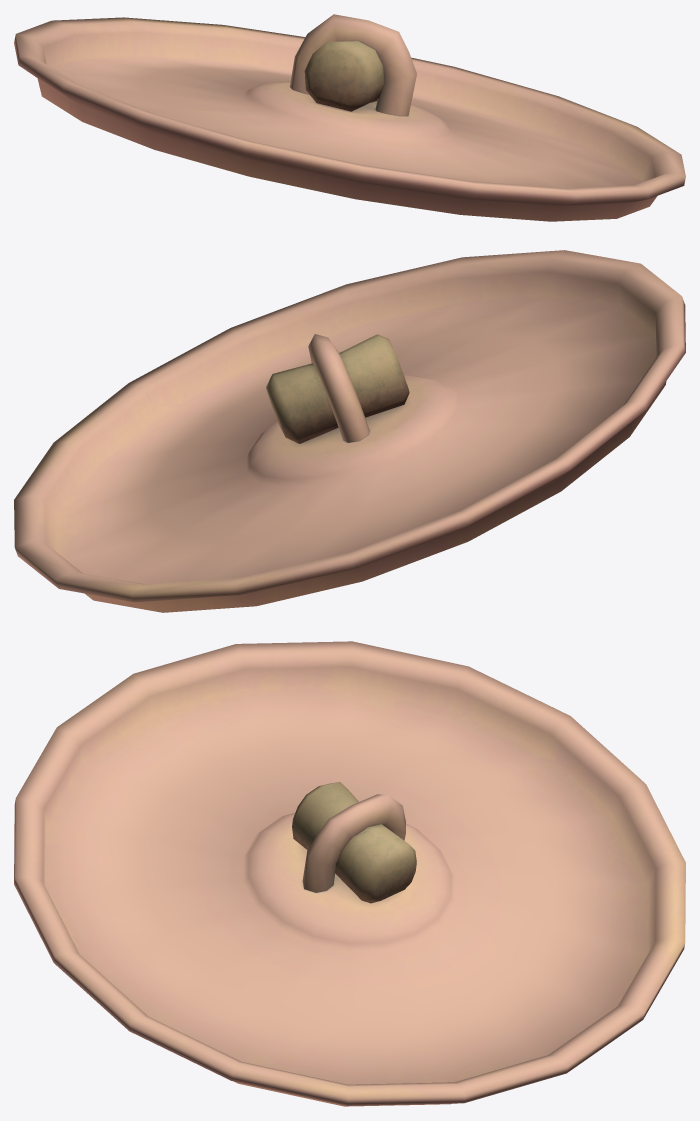
The model's file is lid.obj.
3 renders of one model, top to bottom at view 1: azimuth 30°, elevation 25°; view 2: azimuth 150°, elevation 25°; view 3: azimuth 270°, elevation 25°, orthographic. The views are drawn at different scales.
Visible parts, largest first — view 1: dynamic; view 2: dynamic; view 3: dynamic.
Boxes of the visible parts, x1=… form: dynamic: x1=14, y1=14, x2=685, y2=221; dynamic: x1=14, y1=250, x2=685, y2=612; dynamic: x1=14, y1=641, x2=685, y2=1106.
Bounding box in the file's own units: 1079 × 394 × 1100.
Materials: 2 (2 with a texture image).
